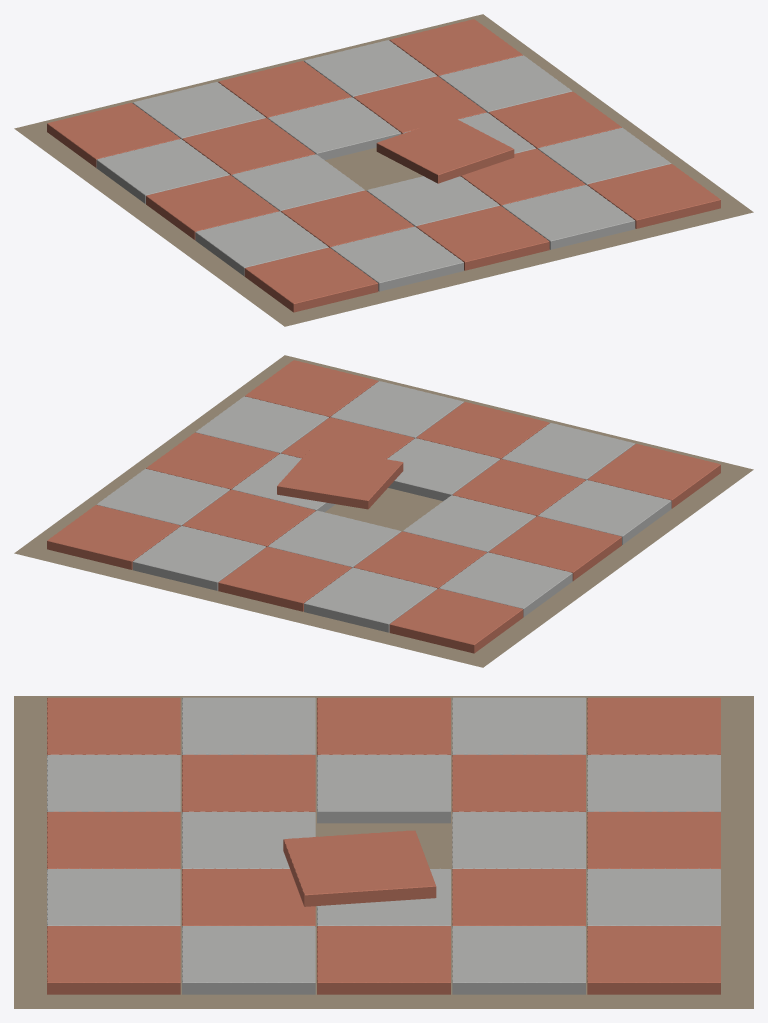
The model's file is terilgan.glb.
The picture shows the model from 3 angles, top to bottom: view 1: azimuth 30°, elevation 25°; view 2: azimuth 150°, elevation 25°; view 3: azimuth 270°, elevation 25°; orthographic projection. The views are drawn at different scales.
Visible parts, largest first — view 1: qum, t.012, t, t.015, t.005, t.010, t.020, t.013, t.001, t.002, t.003, t.004 (+14 smaller); view 2: qum, t.004, t.012, t.019, t.009, t.014, t.024, t.002, t.003, t.001, t, t.006 (+14 smaller); view 3: qum, t.012, t.007, t.020, t.021, t.022, t.023, t.024, t, t.001, t.002, t.003 (+14 smaller).
Part boxes in pixels (box(x1,y1,x2,y2)): qum: box(14, 14, 753, 326); t.012: box(376, 117, 514, 183); t: box(244, 247, 378, 312); t.015: box(501, 185, 635, 249); t.005: box(330, 226, 463, 291); t.010: box(416, 205, 549, 270); t.020: box(587, 164, 720, 228); t.013: box(267, 97, 401, 159); t.001: box(195, 211, 328, 276); t.002: box(146, 175, 279, 239); t.003: box(96, 139, 229, 203); t.004: box(47, 103, 180, 167); qum: box(14, 355, 753, 667); t.004: box(389, 588, 523, 653); t.012: box(277, 447, 403, 509); t.019: box(132, 526, 266, 590); t.009: box(304, 567, 437, 632); t.014: box(218, 546, 351, 611); t.024: box(47, 505, 180, 569); t.002: box(488, 516, 621, 580); t.003: box(439, 552, 572, 617); t.001: box(538, 480, 671, 544); t: box(587, 444, 720, 508); t.006: box(452, 459, 585, 516); qum: box(14, 696, 753, 1008); t.012: box(283, 830, 436, 906); t.007: box(317, 754, 450, 823); t.020: box(47, 926, 180, 994); t.021: box(182, 926, 315, 994); t.022: box(317, 926, 450, 994); t.023: box(452, 926, 585, 994); t.024: box(587, 926, 720, 994); t: box(47, 697, 180, 754); t.001: box(182, 697, 315, 754); t.002: box(317, 697, 450, 754); t.003: box(452, 697, 585, 754).
Size of the model in its own units: 1.66 by 0.062 by 1.66.
